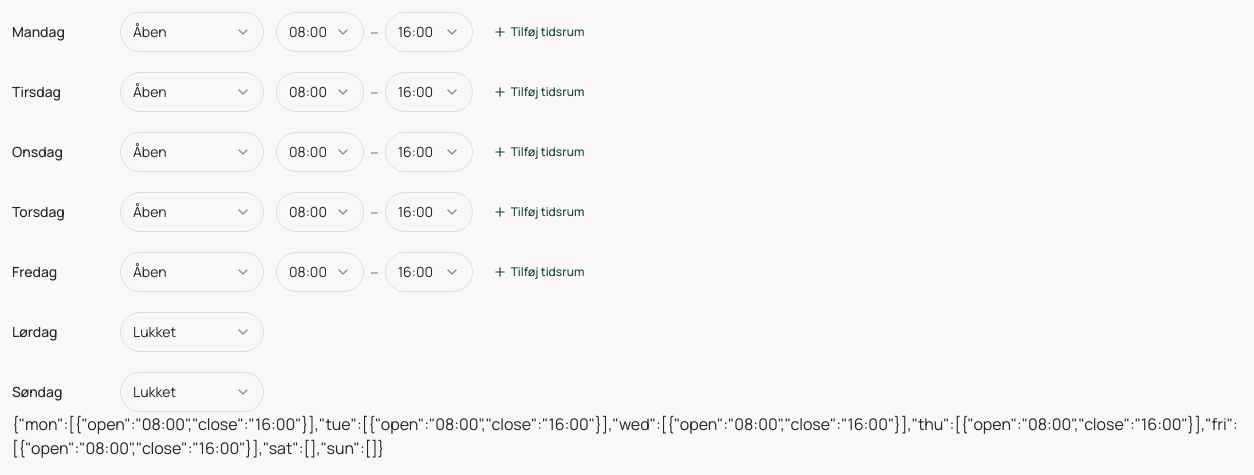
Scenario: OpeningHoursEditor — owner-facing status is binary › offers only Åben and Lukket, never Ikke angivet
Click the dropdown named "Mandag": (192, 32) [120,12,264,52]
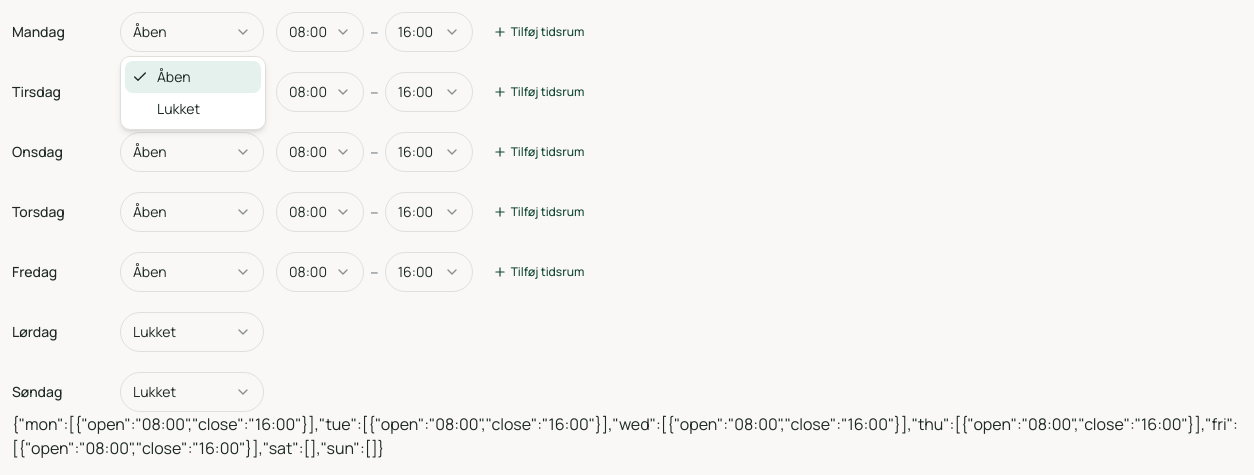
Check: the 2nd text "Åben" is shown, box [157,67,190,87]
Check: the 1st text "Lukket" is shown, box [157,99,200,119]
